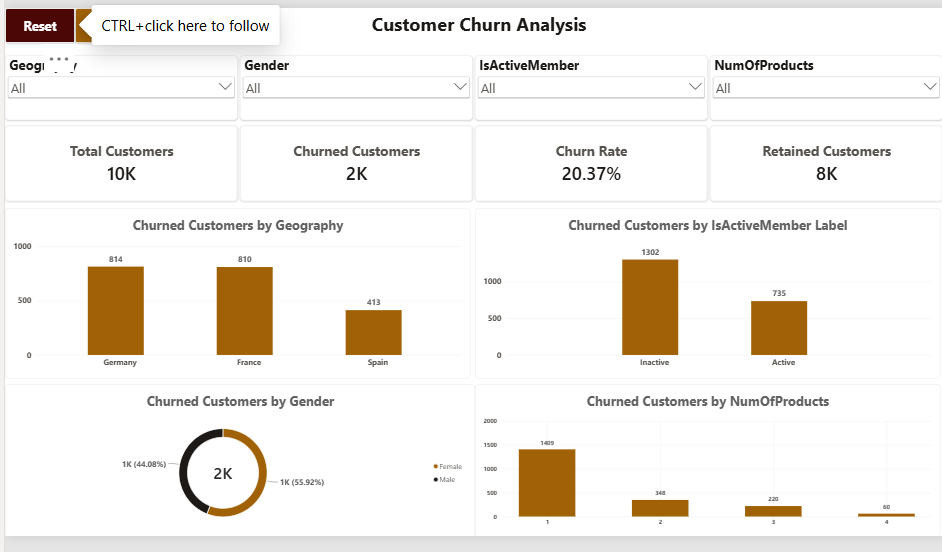

The dashboard page shown, as its layout file describes it:
{"tool":"powerbi","page":{"name":"Customer Churn Overview","canvas":[1920,1080],"ordinal":0},"visuals":[{"type":"textbox","box":[408,0,1104,72],"z":0},{"type":"cardVisual","fields":{"Data":["FactCustomer.Total Customers"]},"box":[0,240,475,155],"z":1000},{"type":"cardVisual","fields":{"Data":["FactCustomer.Churned Customers"]},"box":[480,240,475,155],"z":2000},{"type":"cardVisual","fields":{"Data":["FactCustomer.Churn Rate"]},"box":[960,240,475,155],"z":3000},{"type":"cardVisual","fields":{"Data":["FactCustomer.Retained Customers"]},"box":[1440,240,475,155],"z":4000},{"type":"clusteredColumnChart","fields":{"Category":["DimGeography.Geography"],"Y":["FactCustomer.Churned Customers"]},"box":[0,408,950,348],"z":5000},{"type":"donutChart","fields":{"Category":["FactCustomer.Gender"],"Y":["FactCustomer.Churned Customers"]},"box":[0,768,960,312],"z":6000},{"type":"clusteredColumnChart","fields":{"Y":["FactCustomer.Churned Customers"],"Category":["FactCustomer.IsActiveMember Label"]},"box":[960,408,950,348],"z":7000},{"type":"clusteredColumnChart","fields":{"Category":["FactCustomer.NumOfProducts"],"Y":["FactCustomer.Churned Customers"]},"box":[960,768,950,312],"z":8000},{"type":"slicer","fields":{"Values":["FactCustomer.Gender"]},"box":[480,96,475,132],"z":9000},{"type":"slicer","fields":{"Values":["FactCustomer.IsActiveMember"]},"box":[960,96,475,132],"z":10000},{"type":"slicer","fields":{"Values":["FactCustomer.NumOfProducts"]},"box":[1440,96,475,132],"z":11000},{"type":"slicer","fields":{"Values":["FactCustomer.Geography"]},"box":[0,96,475,132],"z":12000},{"type":"actionButton","box":[0,0,144,72],"z":12001},{"type":"actionButton","box":[144,0,144,72],"z":12002}]}

Visuals, with their boxes on the page's 1920x1080 design canvas (x1, y1, x2, y2). These are canvas units, not pixel positions in the 942x552 screenshot, which may show the page scaled, cropped or inside an application window:
textbox: left=408, top=0, right=1512, bottom=72
cardVisual - FactCustomer.Total Customers: left=0, top=240, right=475, bottom=395
cardVisual - FactCustomer.Churned Customers: left=480, top=240, right=955, bottom=395
cardVisual - FactCustomer.Churn Rate: left=960, top=240, right=1435, bottom=395
cardVisual - FactCustomer.Retained Customers: left=1440, top=240, right=1915, bottom=395
clusteredColumnChart - DimGeography.Geography x FactCustomer.Churned Customers: left=0, top=408, right=950, bottom=756
donutChart - FactCustomer.Gender x FactCustomer.Churned Customers: left=0, top=768, right=960, bottom=1080
clusteredColumnChart - FactCustomer.Churned Customers x FactCustomer.IsActiveMember Label: left=960, top=408, right=1910, bottom=756
clusteredColumnChart - FactCustomer.NumOfProducts x FactCustomer.Churned Customers: left=960, top=768, right=1910, bottom=1080
slicer - FactCustomer.Gender: left=480, top=96, right=955, bottom=228
slicer - FactCustomer.IsActiveMember: left=960, top=96, right=1435, bottom=228
slicer - FactCustomer.NumOfProducts: left=1440, top=96, right=1915, bottom=228
slicer - FactCustomer.Geography: left=0, top=96, right=475, bottom=228
actionButton: left=0, top=0, right=144, bottom=72
actionButton: left=144, top=0, right=288, bottom=72
